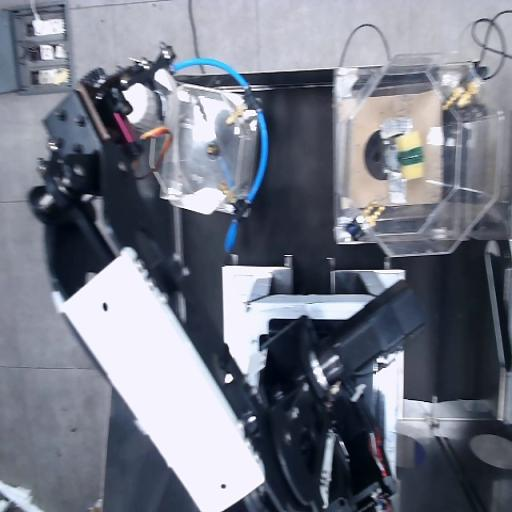cup in rinse station: (122, 70, 178, 135)
